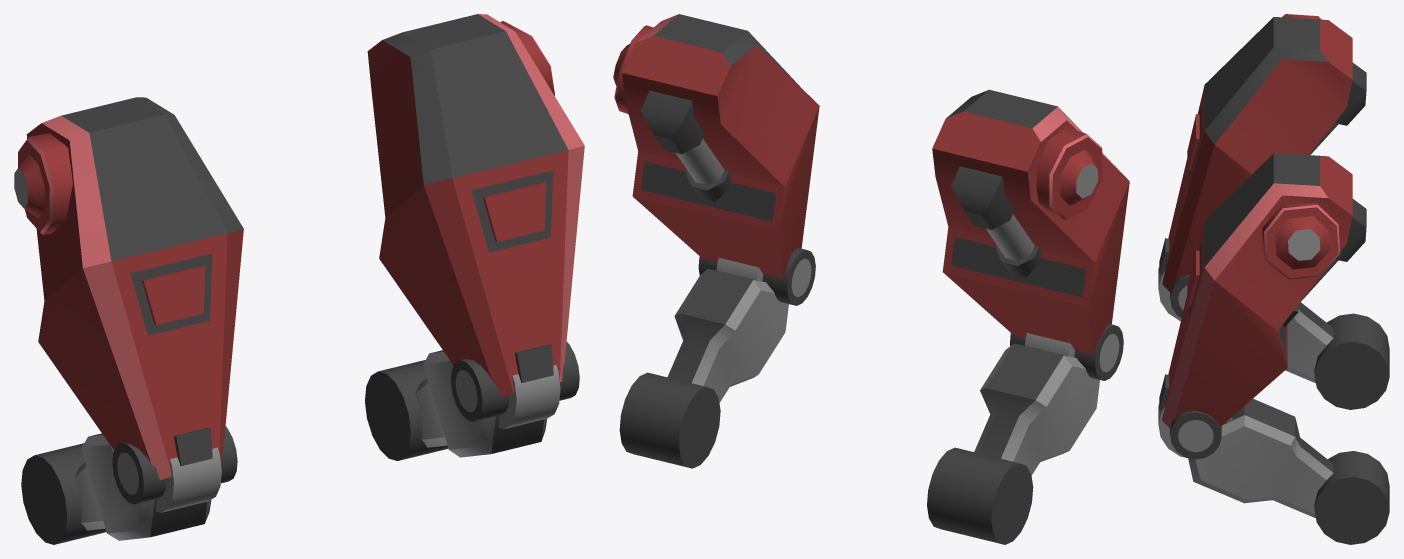
File: Foot_3lvl.fbx
3 views of the same model, side by side, from view 1: azimuth 30°, elevation 25°; view 2: azimuth 150°, elevation 25°; view 3: azimuth 270°, elevation 25° (orthographic). The views are drawn at different scales.
Parts seen in each view (by area): view 1: leg-1.R.004, leg-1.L.004, leg-2.R.004, leg-2.L.004; view 2: leg-1.L.004, leg-1.R.004, leg-2.R.004, leg-2.L.004; view 3: leg-1.L.004, leg-1.R.004, leg-2.L.004, leg-2.R.004.
Part boxes in pixels (box(x1,y1,x2,y2)): leg-1.R.004: box(14, 97, 243, 480); leg-1.L.004: box(367, 14, 584, 396); leg-2.R.004: box(21, 426, 237, 544); leg-2.L.004: box(365, 342, 579, 460); leg-1.L.004: box(613, 14, 819, 278); leg-1.R.004: box(932, 89, 1129, 354); leg-2.R.004: box(927, 324, 1123, 544); leg-2.L.004: box(619, 248, 815, 468); leg-1.L.004: box(1159, 153, 1366, 427); leg-1.R.004: box(1159, 14, 1366, 291); leg-2.L.004: box(1158, 399, 1389, 544); leg-2.R.004: box(1158, 267, 1389, 409).
Size of the model in its own units: 70.9 by 57.95 by 33.39.
